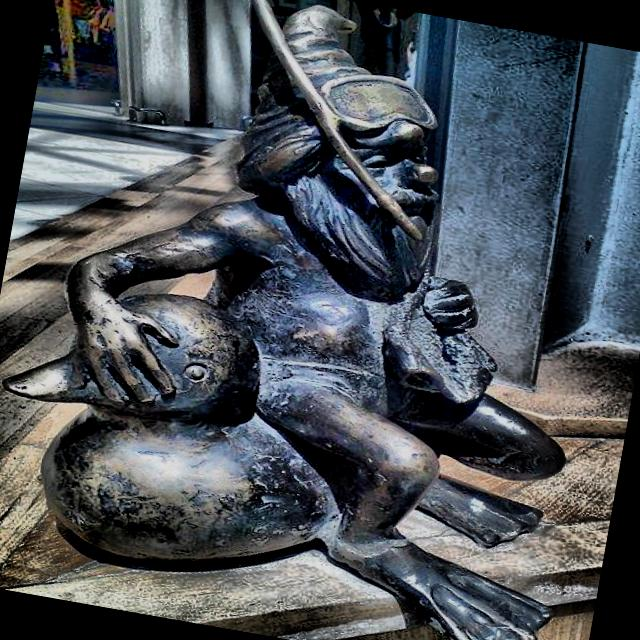Babelek_Chlaptus: (4, 0, 563, 640)
